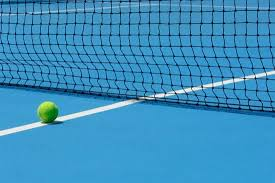tennis_ball: (36, 101, 58, 124)
